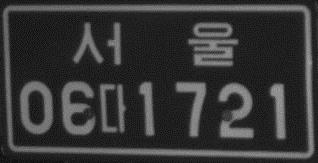0: (18, 78, 53, 136)
1: (266, 80, 292, 140), (135, 79, 159, 136)
2: (217, 81, 255, 139)
6: (59, 79, 96, 135)
7: (173, 80, 208, 139)
다: (97, 82, 129, 134)
서울_D: (70, 19, 240, 69)
